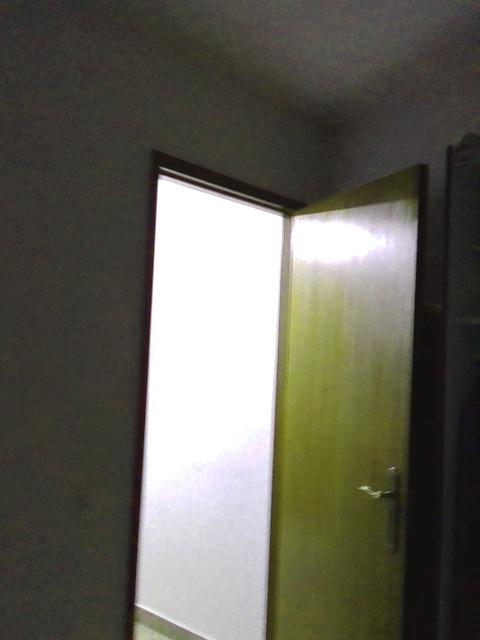open_door: (127, 147, 313, 638)
